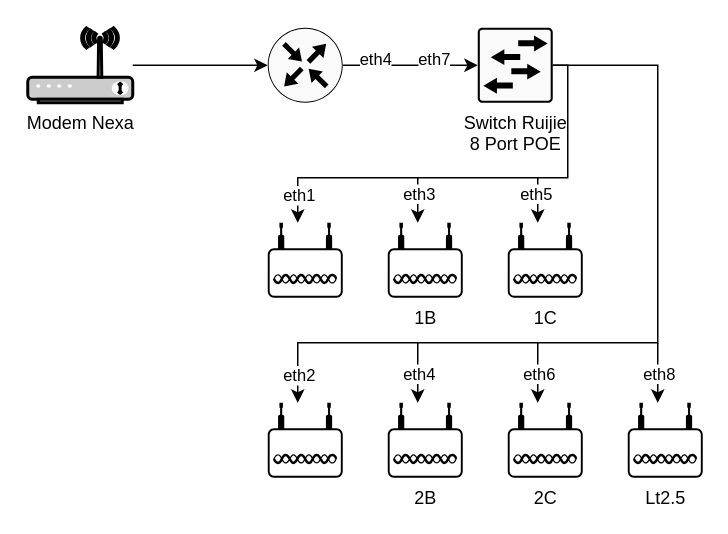
The diagram is 728 pixels wide and 534 high, and some of its shapes have lost their labels. Each missing label, with the centre of its shape:
1A: (x=304, y=259)
2A: (x=304, y=439)
Mikrotik RB3011: (x=304, y=64)
